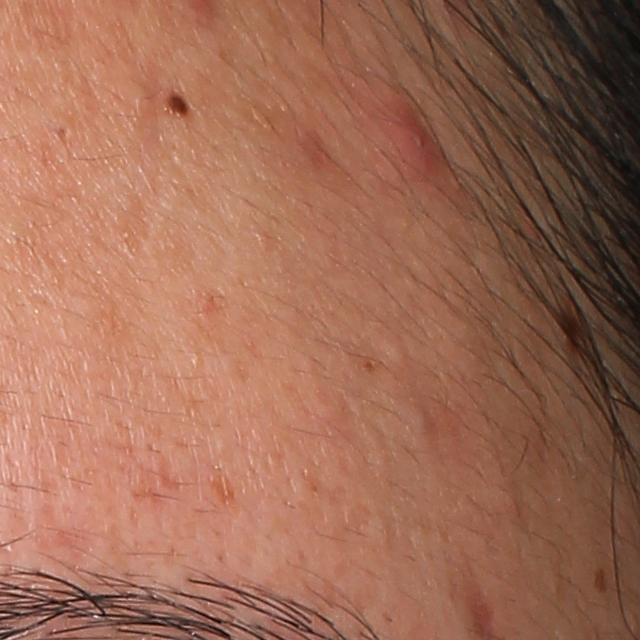comedo: (405, 405, 438, 434)
nevus: (166, 92, 189, 118)
papule: (364, 73, 436, 171)
